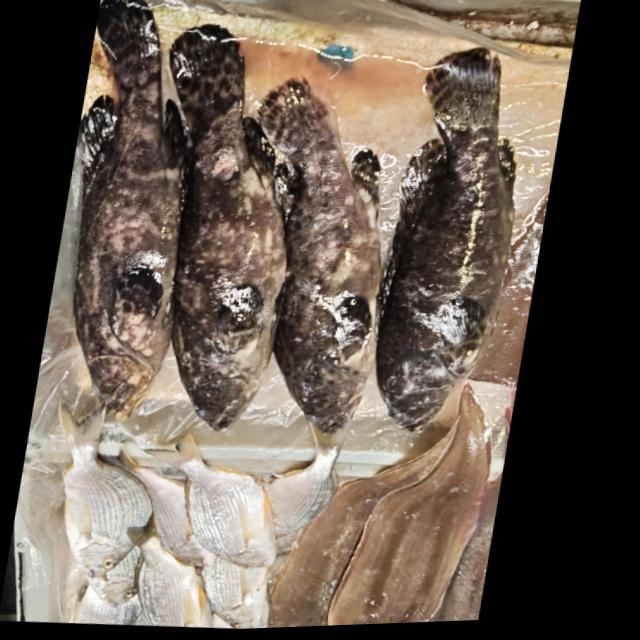Groupers: (104, 15, 329, 442), (30, 0, 231, 427), (200, 71, 418, 438), (350, 39, 547, 443)
